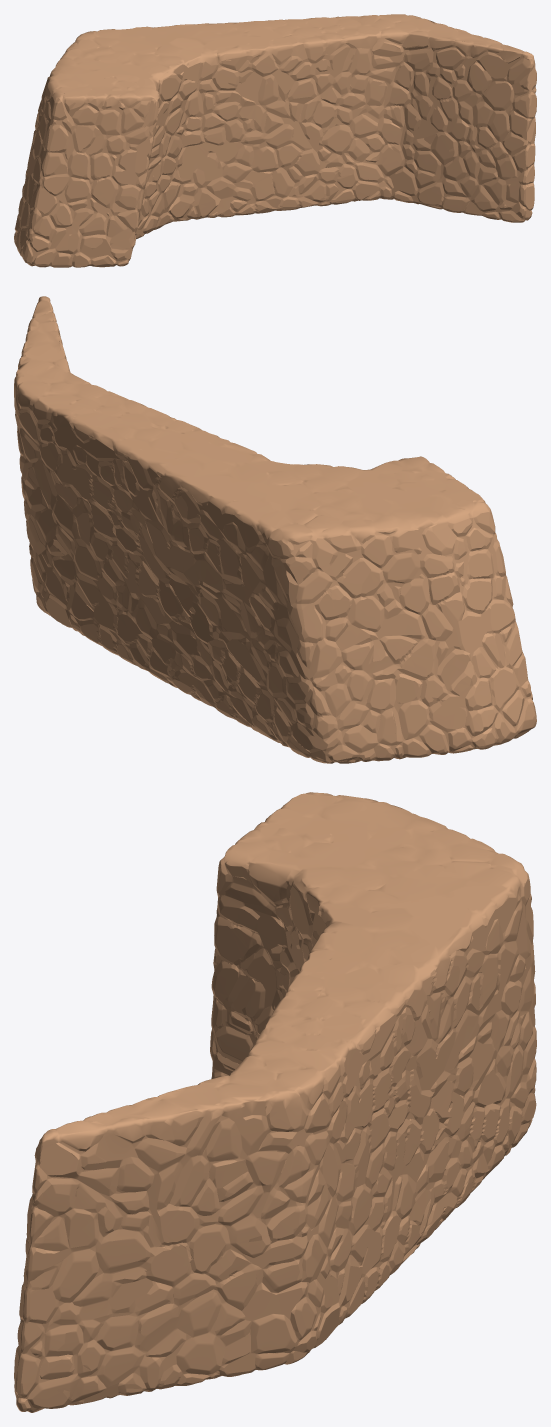
3 renders of one model, top to bottom at view 1: azimuth 30°, elevation 25°; view 2: azimuth 150°, elevation 25°; view 3: azimuth 270°, elevation 25°, orthographic. The views are drawn at different scales.
Visible parts, largest first — view 1: Mesh_36_LOD0; view 2: Mesh_36_LOD0; view 3: Mesh_36_LOD0.
Part boxes in pixels (x1,y1,x2,y2): Mesh_36_LOD0: (14, 14, 536, 267); Mesh_36_LOD0: (14, 296, 536, 763); Mesh_36_LOD0: (14, 792, 536, 1412).
Size of what is drawn, in the model's own units: 21409 by 7643 by 12438.
